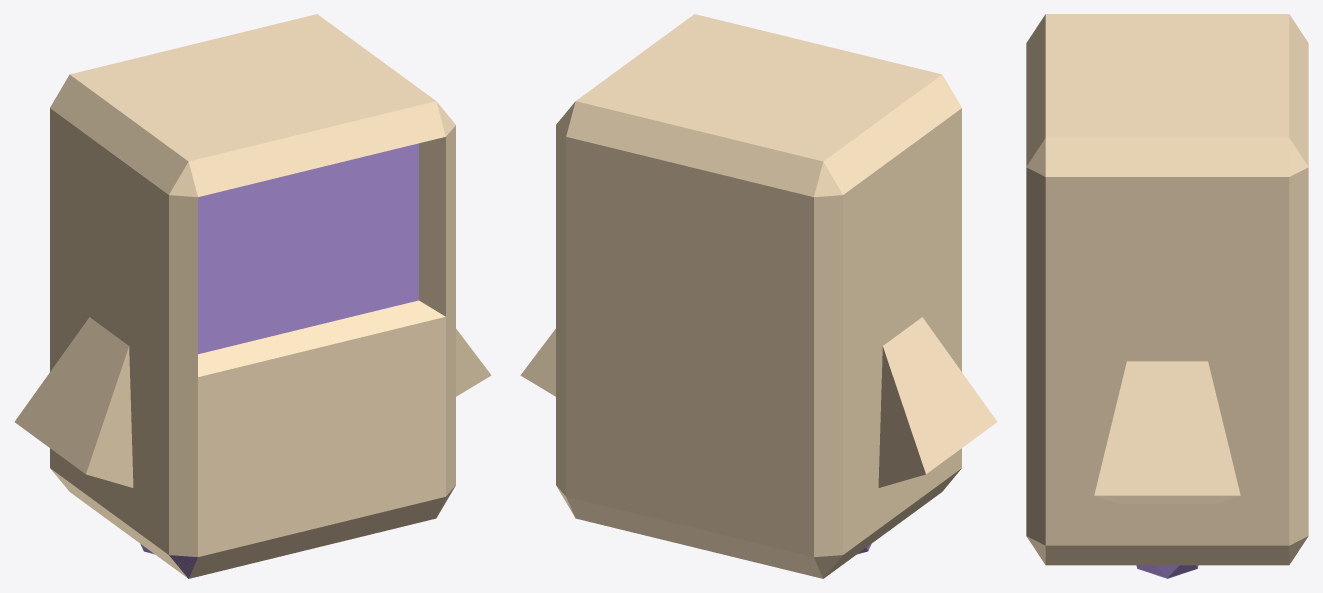
Rendered from bmo3.fbx.
3 views of the same model, side by side, from view 1: azimuth 30°, elevation 25°; view 2: azimuth 150°, elevation 25°; view 3: azimuth 270°, elevation 25° (orthographic). The views are drawn at different scales.
Parts seen in each view (by area): view 1: Cube; view 2: Cube; view 3: Cube.
Boxes of the visible parts, <box> form: Cube: <box>14,14,491,578</box>; Cube: <box>520,14,997,578</box>; Cube: <box>1026,14,1308,578</box>.
Size of the model in its own units: 339 by 361 by 200.
